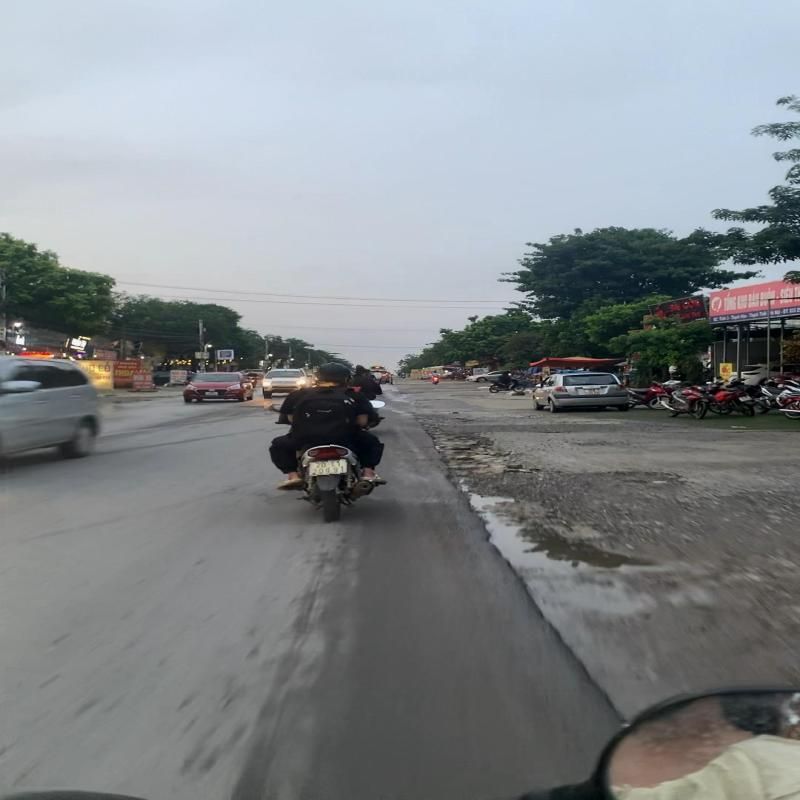helmet: (312, 359, 356, 386)
licenseplate: (306, 460, 351, 478)
motorcyclist: (264, 359, 396, 524)
